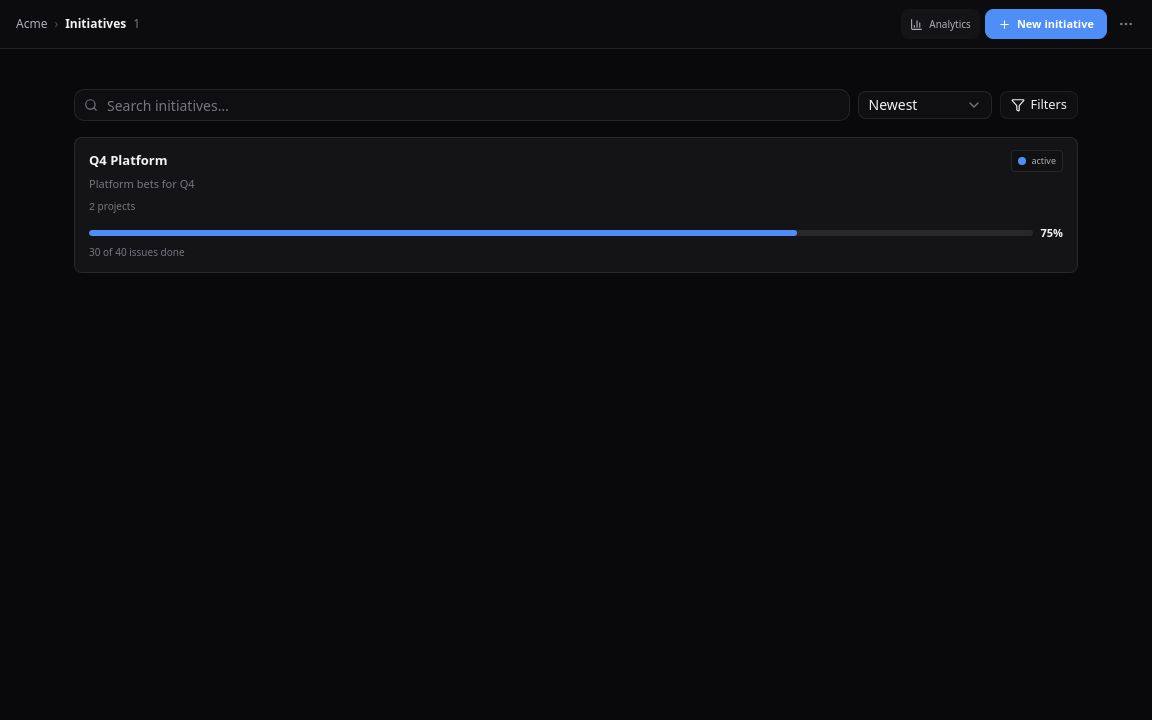
Scenario: Initiatives create flow › keeps the create button disabled until a name is entered
Click the button "New initiative".
click(1046, 24)  # box x1=985 y1=9 x2=1107 y2=39
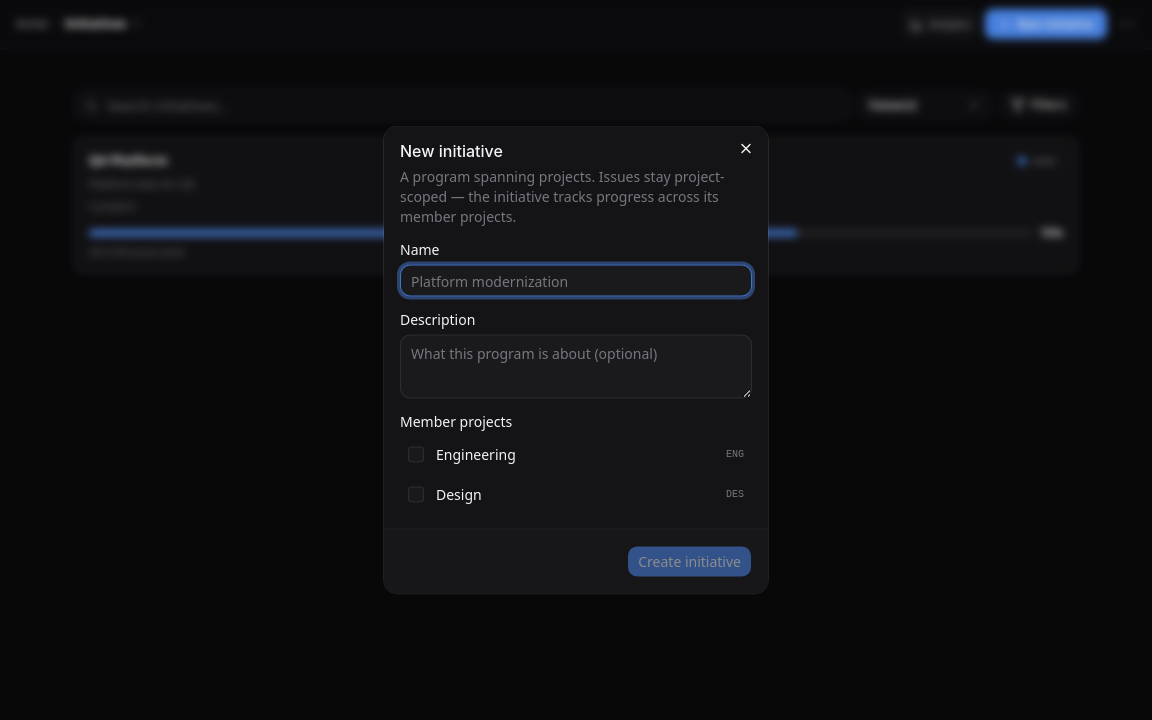
Now the button "Create initiative" is disabled, box x1=627 y1=546 x2=752 y2=578
